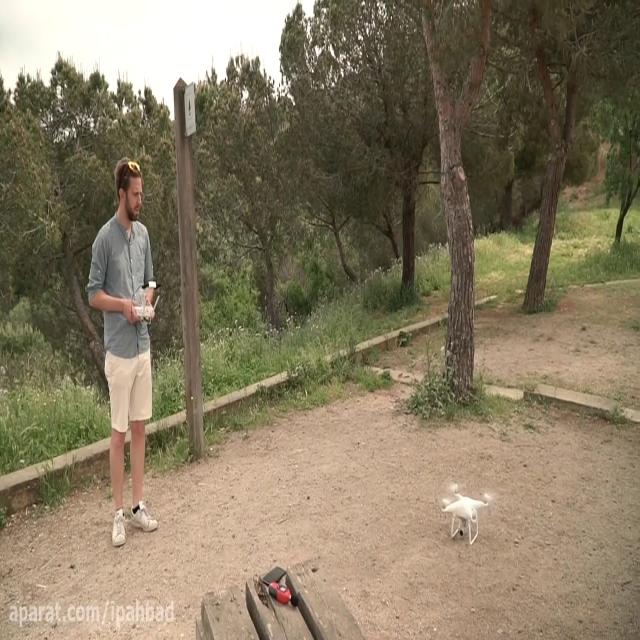drone: (438, 477, 498, 546)
